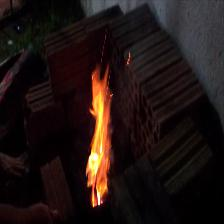fire: (65, 61, 129, 214)
